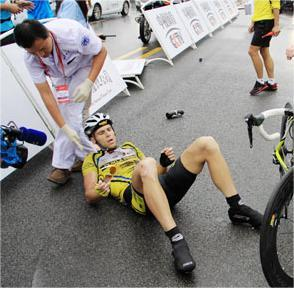bending: (13, 15, 99, 179)
down: (84, 111, 229, 268)
up: (241, 1, 285, 101)
